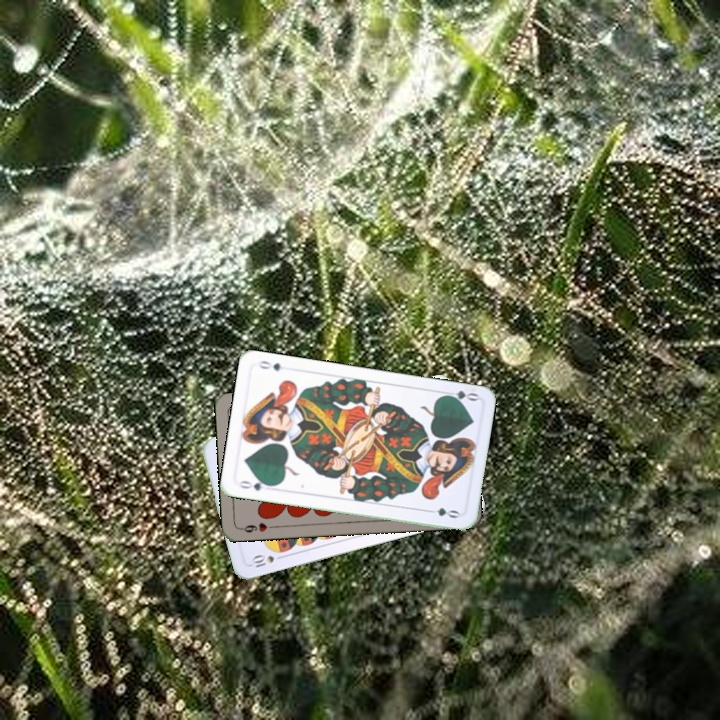GO: (439, 386, 480, 405), (235, 476, 276, 493)
H9: (237, 519, 277, 535)
S10: (247, 551, 277, 570)
